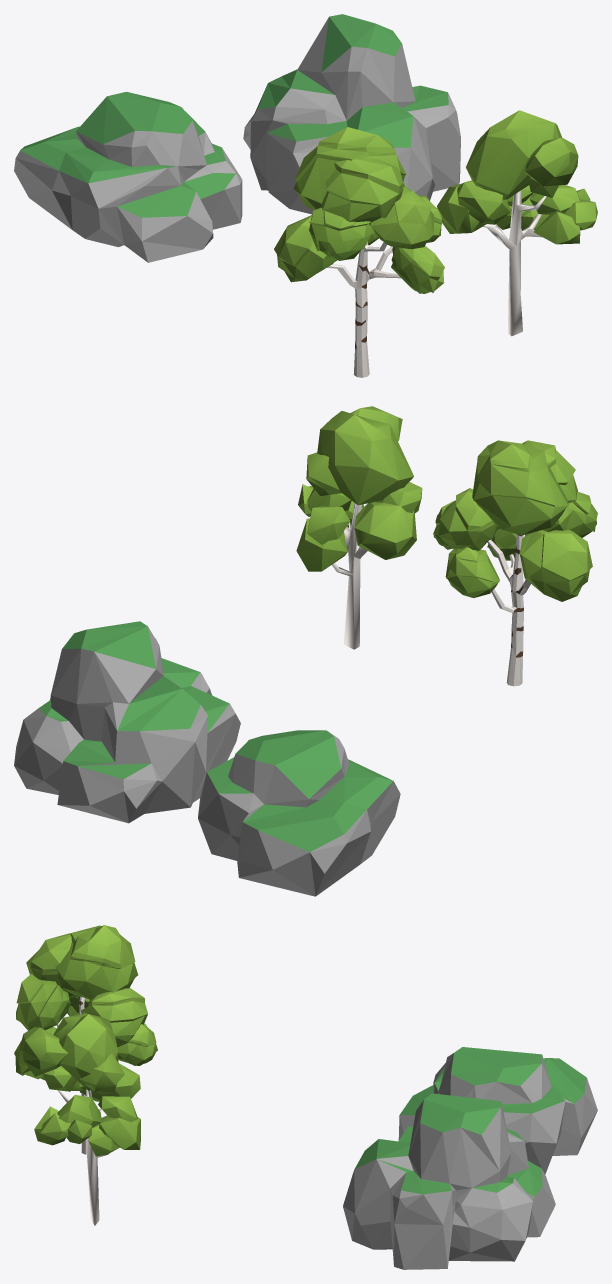
File: trees n rocks.glb
The picture shows the model from 3 angles, top to bottom: view 1: azimuth 30°, elevation 25°; view 2: azimuth 150°, elevation 25°; view 3: azimuth 270°, elevation 25°; orthographic projection. The views are drawn at different scales.
Visible parts, largest first — view 1: PP_Rock_Moss_Grown_11.001, PP_Rock_Moss_Grown_09.001, PP_Birch_Tree_06.001, PP_Birch_Tree_05.001; view 2: PP_Rock_Moss_Grown_09.001, PP_Rock_Moss_Grown_11.001, PP_Birch_Tree_06.001, PP_Birch_Tree_05.001; view 3: PP_Rock_Moss_Grown_09.001, PP_Birch_Tree_05.001, PP_Birch_Tree_06.001, PP_Rock_Moss_Grown_11.001.
Part boxes in pixels (x1,y1,x2,y2): PP_Rock_Moss_Grown_11.001: (14,91,242,262); PP_Rock_Moss_Grown_09.001: (243,14,460,214); PP_Birch_Tree_06.001: (274,127,444,377); PP_Birch_Tree_05.001: (437,110,597,336); PP_Rock_Moss_Grown_09.001: (14,621,240,823); PP_Rock_Moss_Grown_11.001: (198,730,400,896); PP_Birch_Tree_06.001: (433,440,597,686); PP_Birch_Tree_05.001: (296,406,422,649); PP_Rock_Moss_Grown_09.001: (343,1093,555,1269); PP_Birch_Tree_05.001: (19,1014,140,1225); PP_Birch_Tree_06.001: (14,925,157,1154); PP_Rock_Moss_Grown_11.001: (398,1047,597,1174).
Size of the model in its own units: 13.74 by 8.9 by 20.92.
3 materials, 1 textured.
